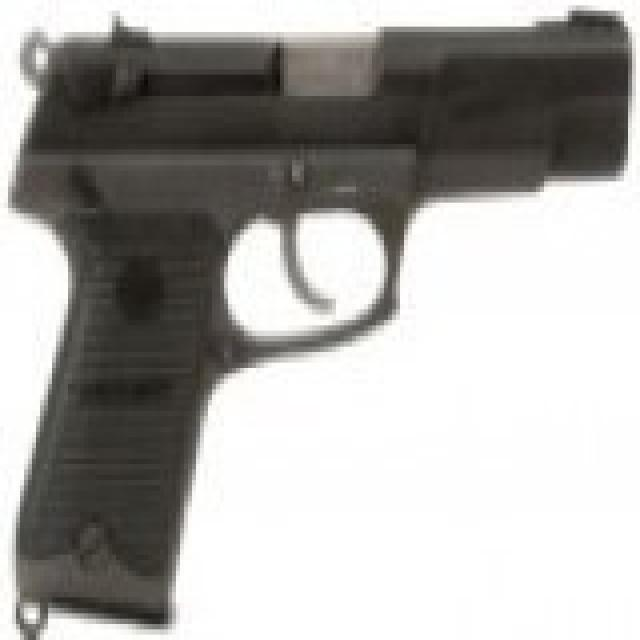Gun: (14, 14, 618, 584)
